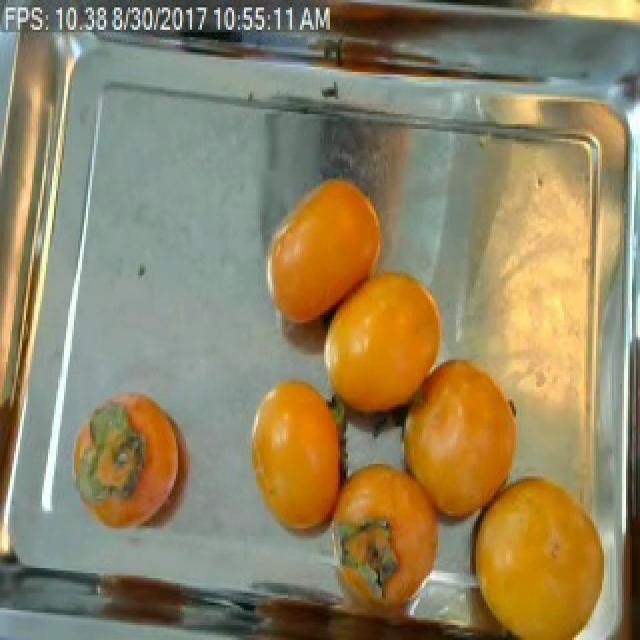Fruit: (380, 335, 534, 556), (448, 454, 614, 640), (310, 253, 456, 449), (250, 162, 398, 342), (322, 444, 462, 633), (70, 377, 208, 546), (236, 365, 344, 558)
